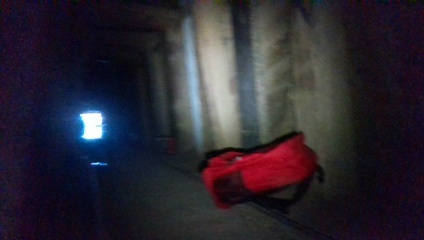backpack: (199, 128, 321, 210)
drill: (151, 131, 177, 156)
